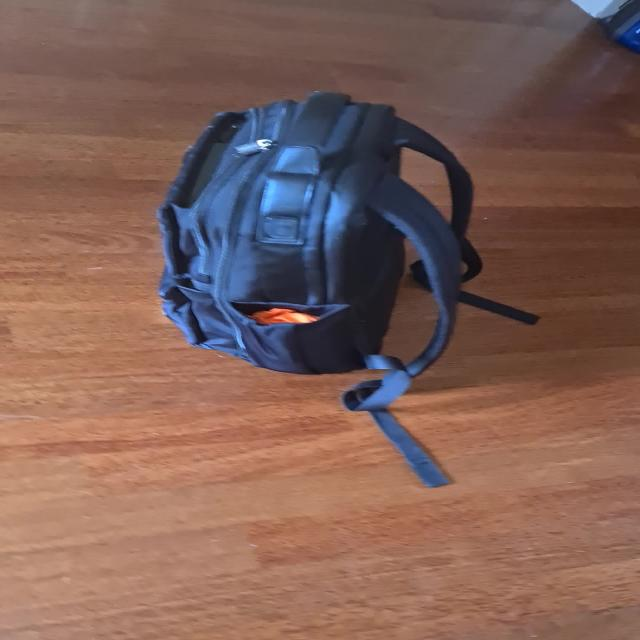backpack: (143, 79, 482, 381)
